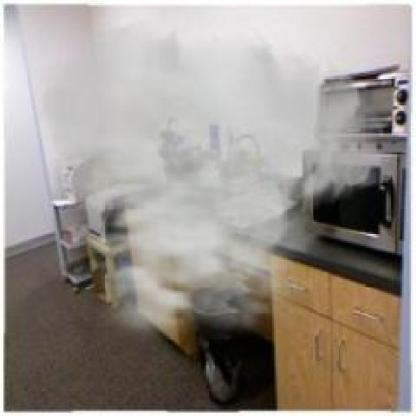Smoke: (31, 18, 388, 355)
